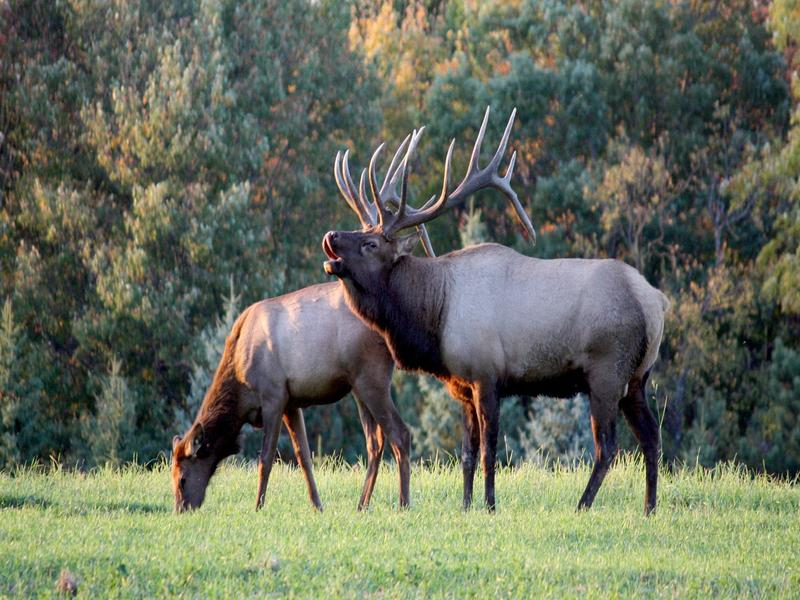elk: (320, 169, 668, 515), (168, 265, 407, 520)
